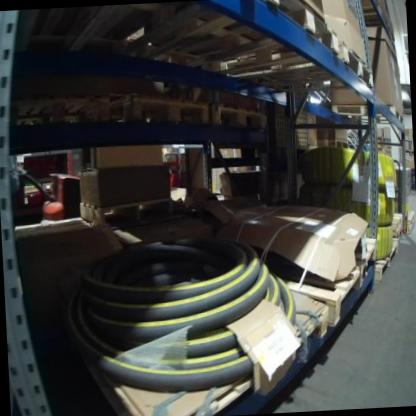pallet: (72, 269, 333, 416), (96, 0, 341, 70), (222, 49, 376, 102), (276, 245, 368, 328), (107, 96, 211, 130), (319, 102, 404, 134), (365, 235, 402, 282), (213, 102, 267, 134), (403, 208, 416, 236)
pallet_truck: (10, 156, 89, 226)
stillage: (267, 100, 319, 156)
